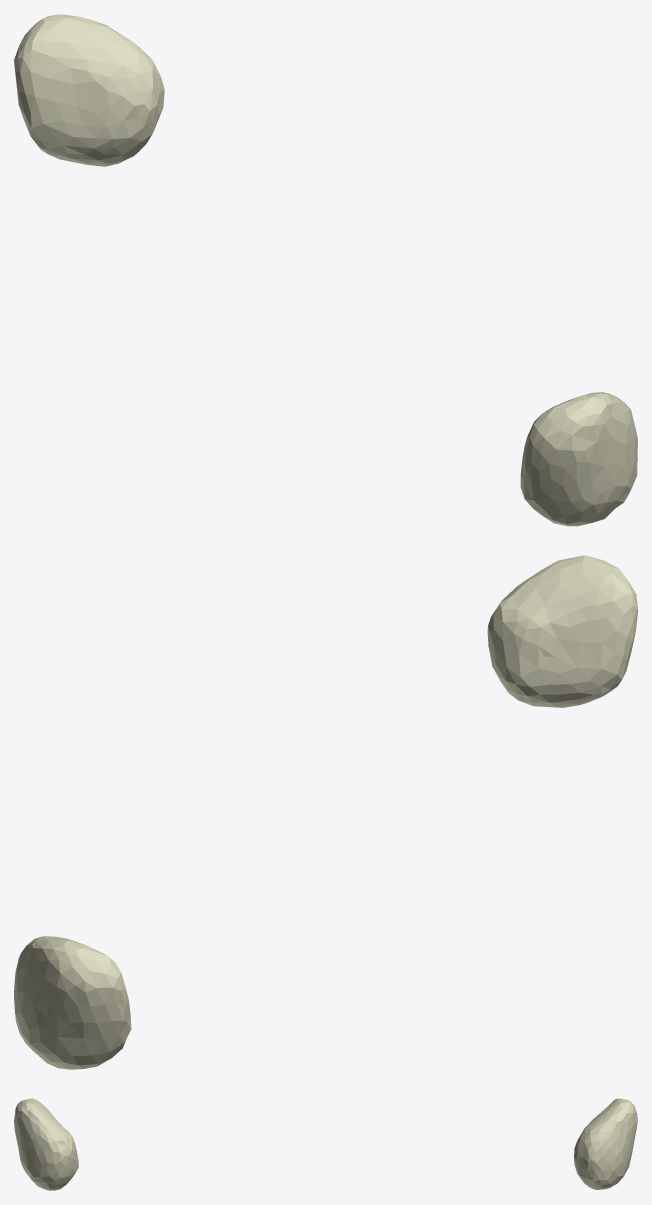
3 renders of one model, top to bottom at view 1: azimuth 30°, elevation 25°; view 2: azimuth 150°, elevation 25°; view 3: azimuth 270°, elevation 25°, orthographic. The views are drawn at different scales.
Parts seen in each view (by area): view 1: 846.obj; view 2: 846.obj; view 3: 846.obj.
Boxes of the visible parts, x1,y1,x2,y2 form: 846.obj: (14, 14, 637, 526); 846.obj: (14, 555, 637, 1069); 846.obj: (14, 1098, 637, 1190).
Bounding box in the file's own units: 737 × 781 × 5577.
